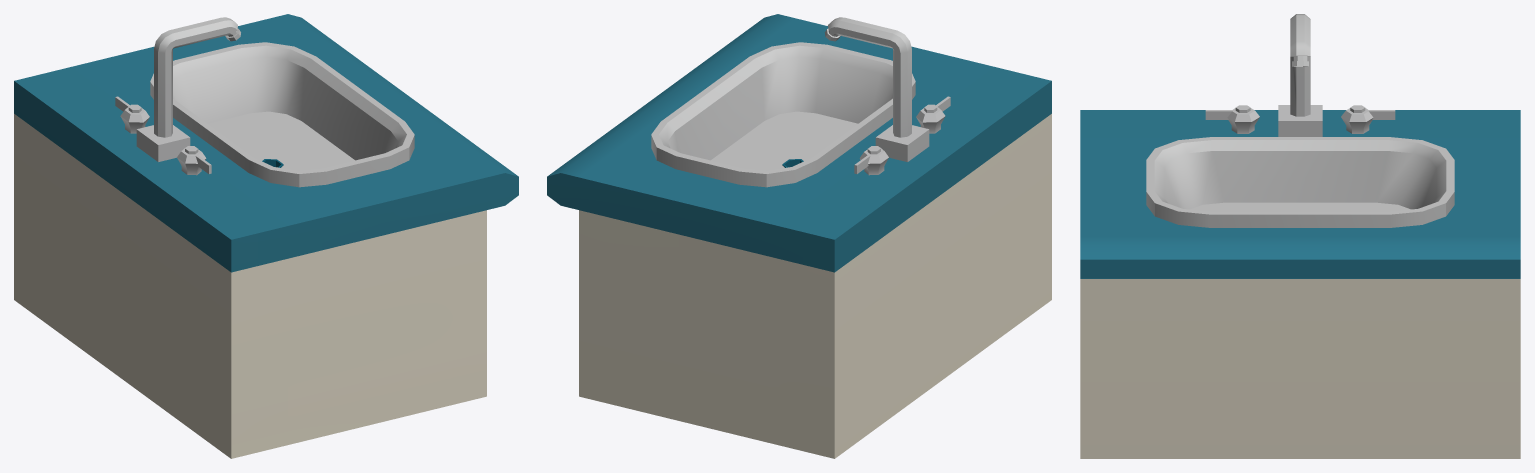
Rendered from sink.glb.
3 views of the same model, side by side, from view 1: azimuth 30°, elevation 25°; view 2: azimuth 150°, elevation 25°; view 3: azimuth 270°, elevation 25° (orthographic).
Parts seen in each view (by area): view 1: sink; view 2: sink; view 3: sink.
Boxes of the visible parts, left/top/right/bottom form: sink: left=14, top=14, right=518, bottom=458; sink: left=547, top=14, right=1051, bottom=458; sink: left=1080, top=14, right=1520, bottom=458.
Bounding box in the file's own units: 1.3 × 1.45 × 1.7.
1 material, 1 textured.
